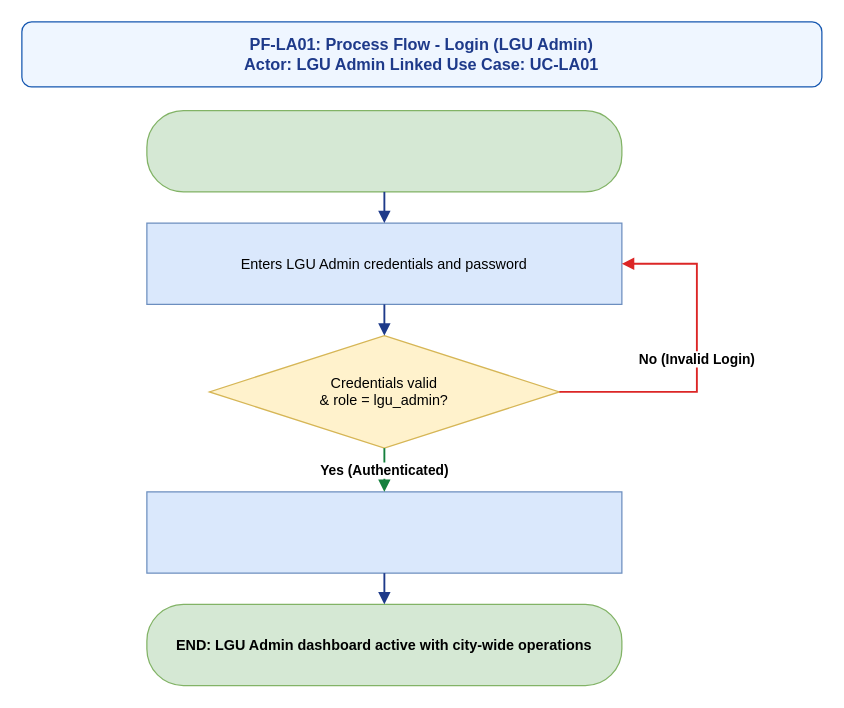
Image size: 844x708. Some labels were removed from this diagram. The box of each missing label's shape, as (x1, y1, x2, y2) in pixels:
START: LGU Admin opens Web Admin Login page: (146, 109, 622, 192)
System loads City Operations Command Center Dashboard (Dashboard.jsx): (146, 491, 622, 573)
